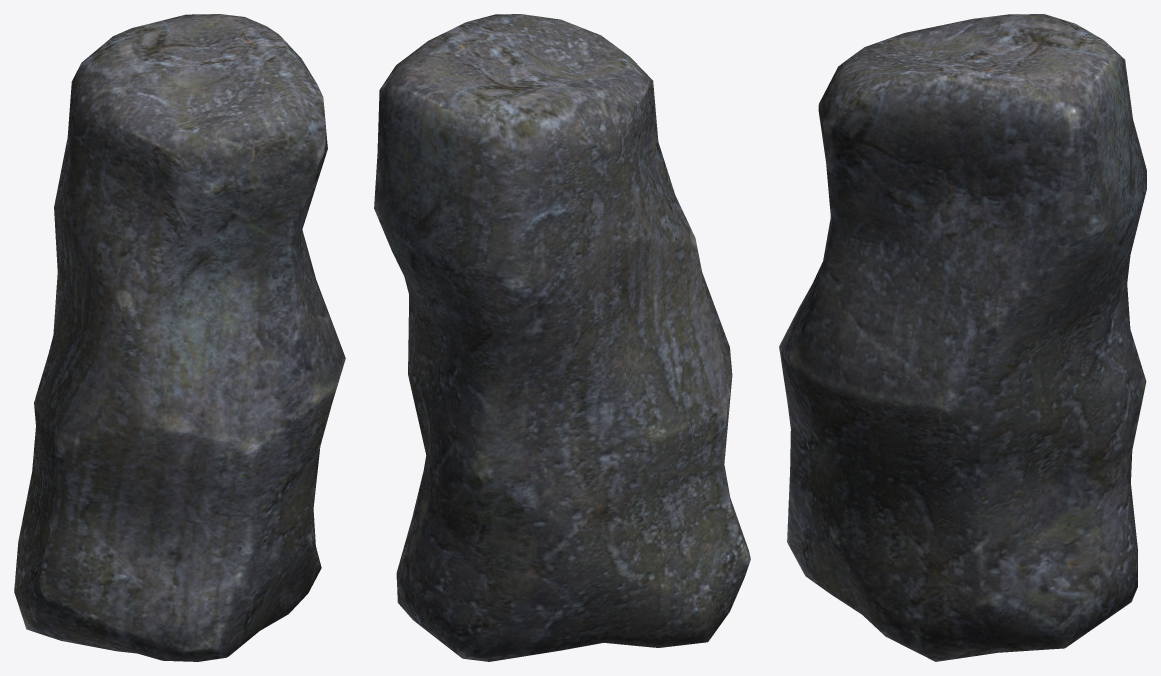
Rendered from Rock1.fbx.
3 views of the same model, side by side, from view 1: azimuth 30°, elevation 25°; view 2: azimuth 150°, elevation 25°; view 3: azimuth 270°, elevation 25° (orthographic). The views are drawn at different scales.
Parts seen in each view (by area): view 1: Rock.010; view 2: Rock.010; view 3: Rock.010.
Part boxes in pixels (x1,y1,x2,y2): Rock.010: (14, 14, 345, 661); Rock.010: (374, 14, 750, 661); Rock.010: (779, 14, 1146, 661).
Bounding box in the file's own units: 253 × 449 × 248.
